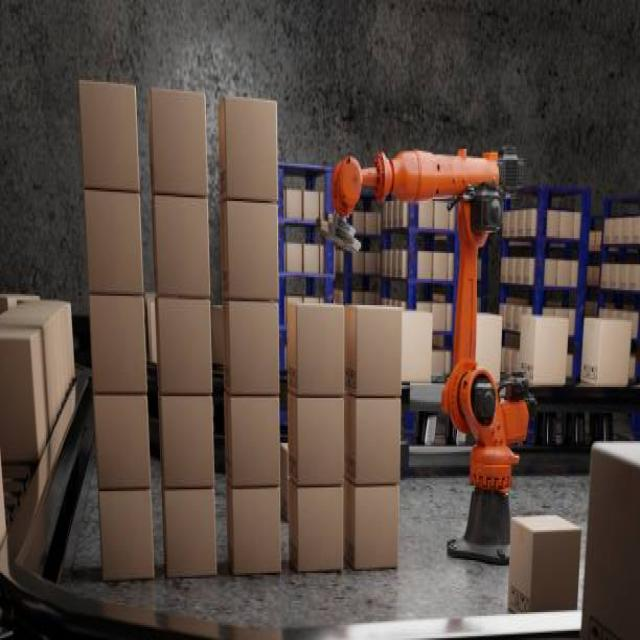Robotic-arm: (320, 130, 538, 499)
